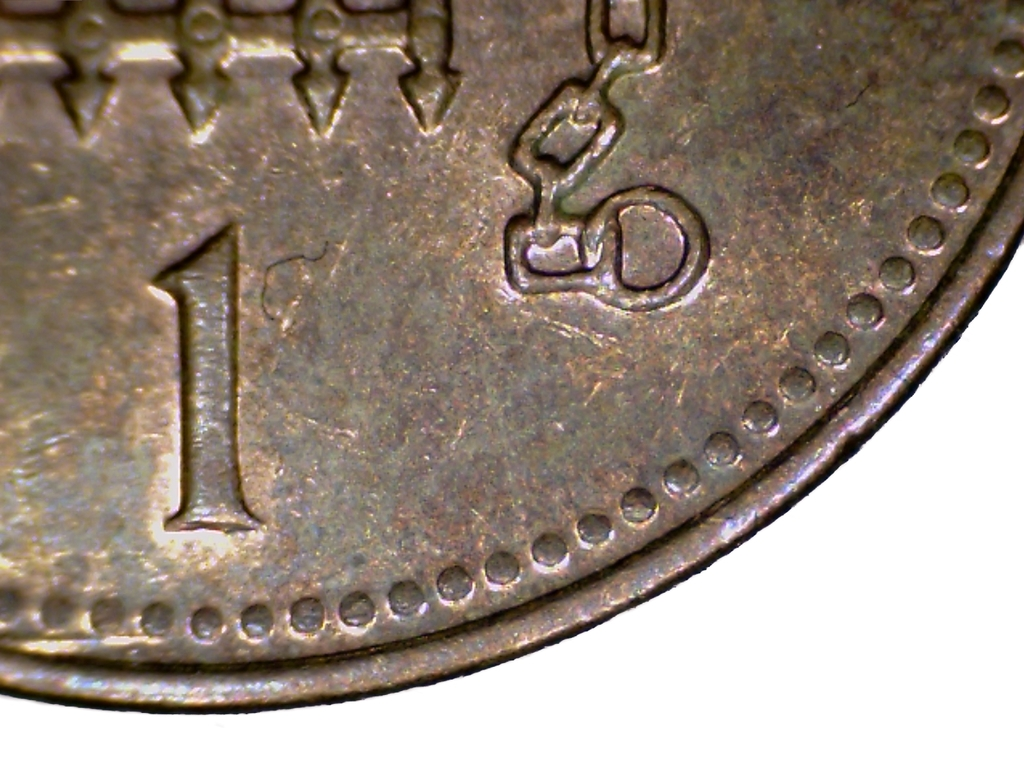Coin: (0, 0, 1024, 715)
